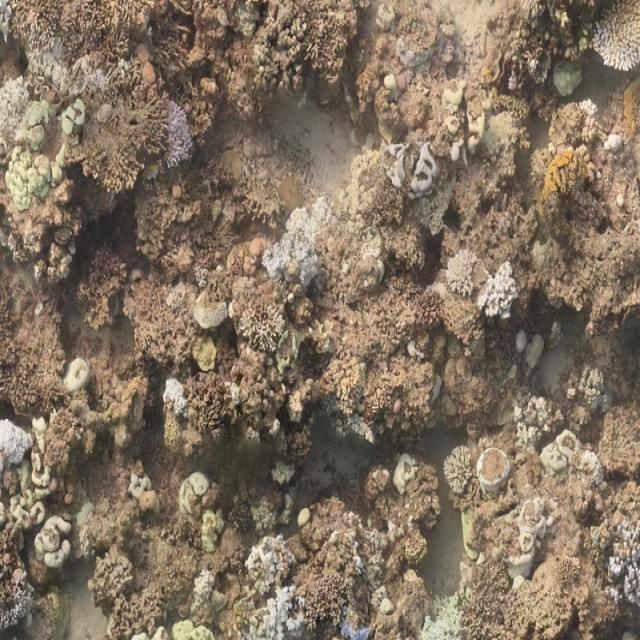Bleached Coral: (240, 539, 313, 640), (268, 204, 322, 290), (158, 89, 202, 190), (605, 515, 640, 619), (0, 406, 36, 474), (444, 246, 479, 306), (481, 262, 520, 315), (0, 64, 35, 122), (441, 442, 472, 499), (162, 376, 186, 424), (598, 123, 628, 151)
